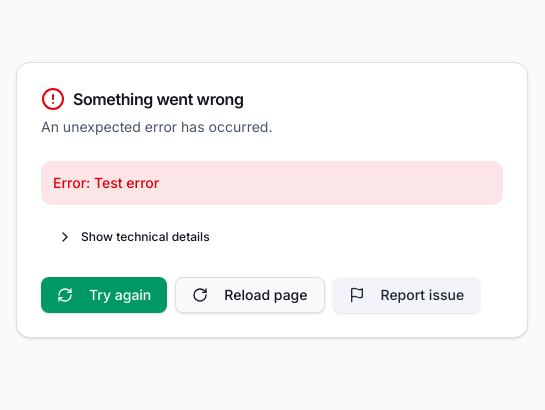
ErrorFallback › toggles stack trace visibility
The image size is (545, 410).
expect the text "at TestComponent" is not shown: met
# Click to show
What coordinates should you click on to do the following:
click the button "Show technical details"
I would click on:
 (97, 236)
Its box is [41,221,503,253].
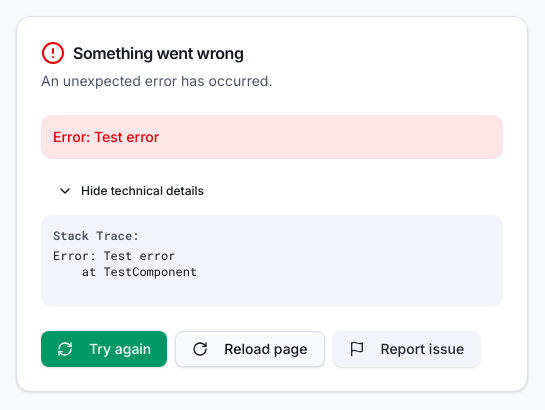
expect the text "Error: Test error at TestComponent" is shown: met, box [53,247,197,279]
# Click to hide
What coordinates should you click on to do the following:
click the button "Hide technical details"
I would click on:
 (156, 190)
Its box is [41,175,503,207].
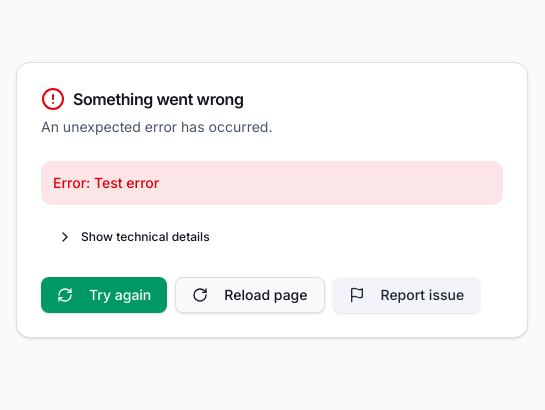
expect the text "at TestComponent" is gone: met
